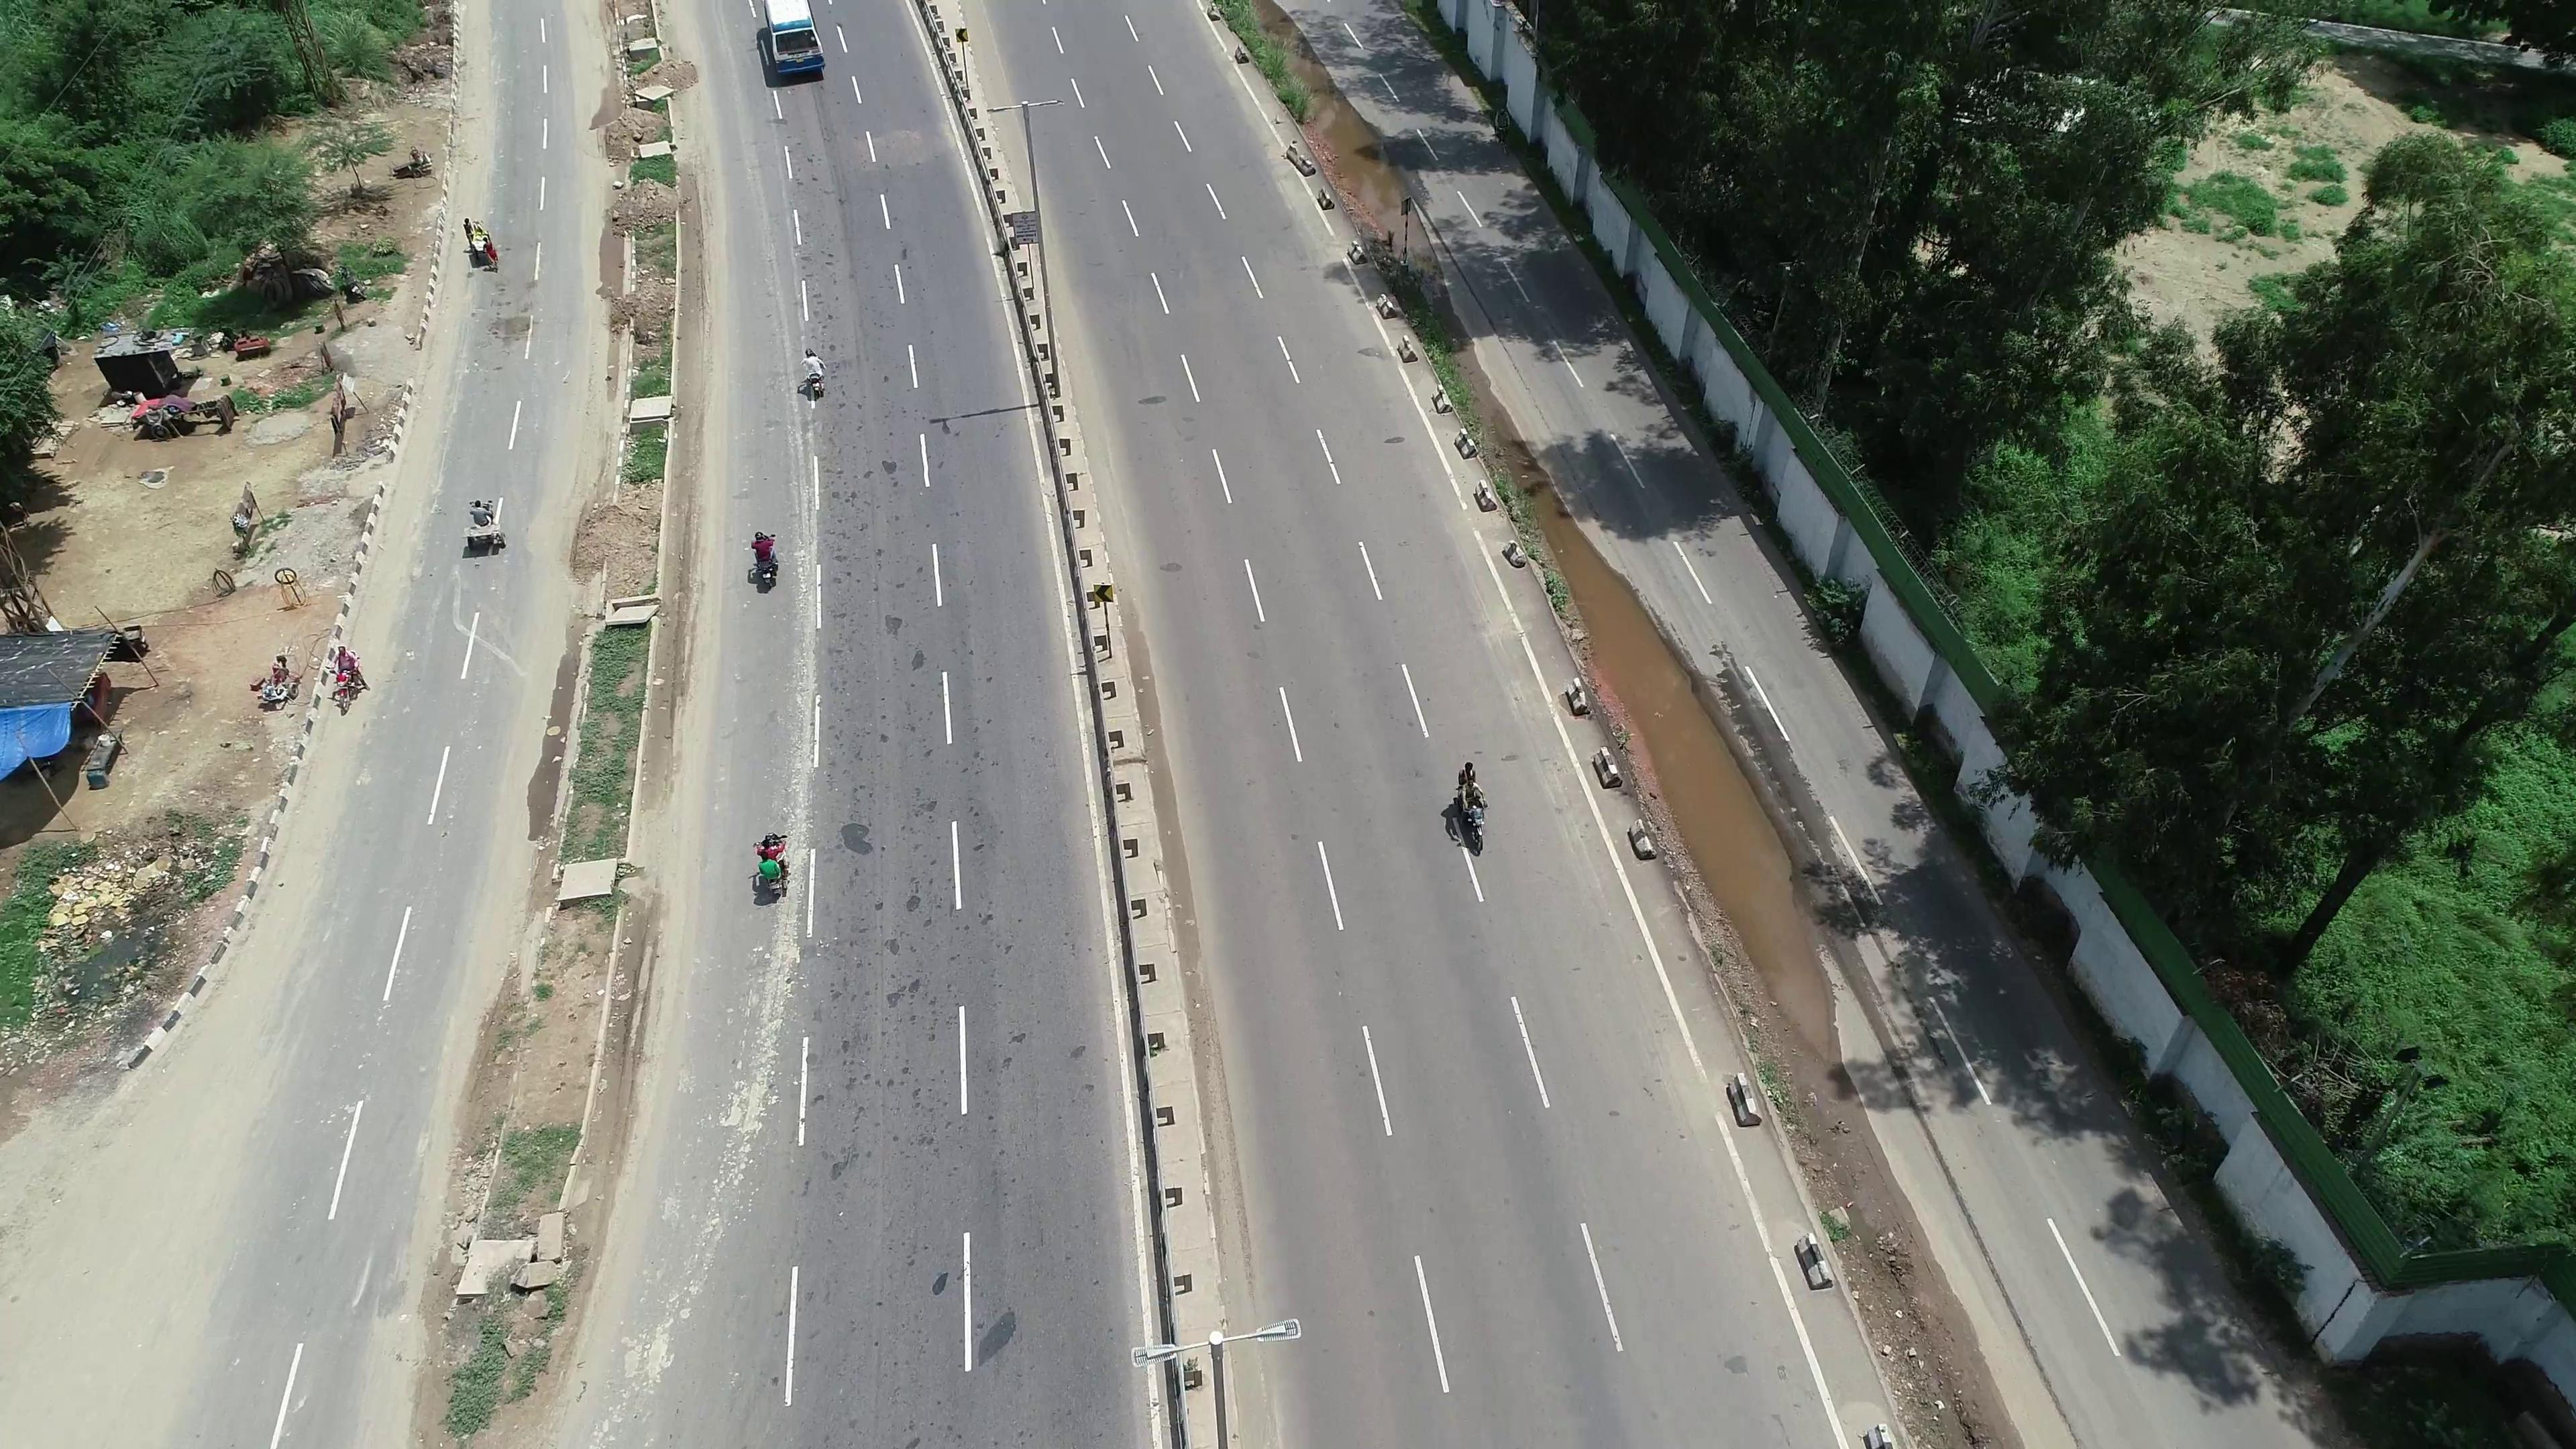Waterlogging: (1663, 734, 1798, 952), (1564, 547, 1695, 748)
